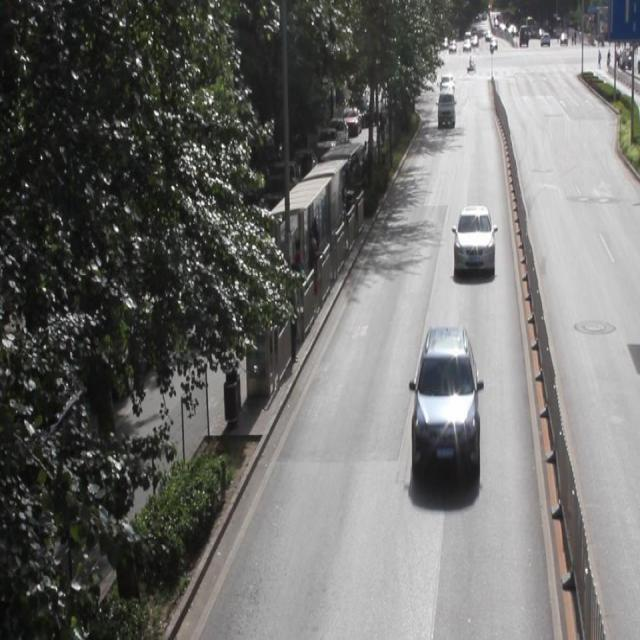car: (411, 310, 487, 497), (448, 202, 515, 286), (428, 77, 463, 130)
